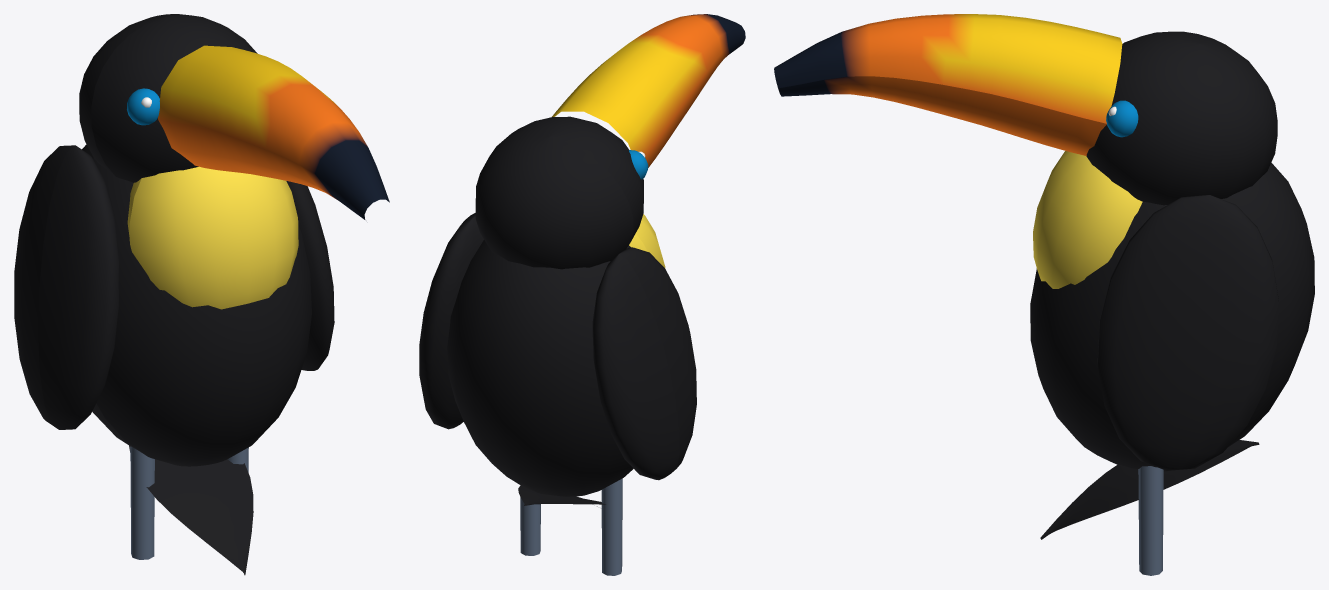
File: toucan.glb
3 views of the same model, side by side, from view 1: azimuth 30°, elevation 25°; view 2: azimuth 150°, elevation 25°; view 3: azimuth 270°, elevation 25° (orthographic). The views are drawn at different scales.
Visible parts, largest first — view 1: Body, WingL, Beak, Bib, Head, Tail, WingR, Leg_L, Eye; view 2: Body, Head, WingL, Beak, WingR, Leg_L, Leg_R, Bib, Tail; view 3: WingR, Beak, Head, Body, Bib, Tail, Leg_R, Eye.
Boxes of the visible parts, left/top/right/bottom form: Body: left=82, top=144, right=311, bottom=466; WingL: left=14, top=145, right=118, bottom=429; Beak: left=158, top=45, right=389, bottom=219; Bib: left=127, top=166, right=298, bottom=309; Head: left=79, top=14, right=257, bottom=182; Tail: left=129, top=445, right=253, bottom=575; WingR: left=286, top=181, right=334, bottom=370; Leg_L: left=130, top=446, right=154, bottom=559; Eye: left=127, top=88, right=159, bottom=125; Body: left=447, top=240, right=633, bottom=496; Head: left=475, top=116, right=643, bottom=269; WingL: left=592, top=247, right=696, bottom=480; Beak: left=552, top=14, right=745, bottom=167; WingR: left=419, top=213, right=483, bottom=429; Leg_L: left=601, top=478, right=622, bottom=575; Leg_R: left=520, top=497, right=540, bottom=555; Bib: left=629, top=214, right=665, bottom=268; Tail: left=518, top=485, right=605, bottom=506; WingR: left=1097, top=195, right=1278, bottom=470; Beak: left=774, top=14, right=1122, bottom=155; Head: left=1086, top=31, right=1277, bottom=205; Body: left=1030, top=162, right=1314, bottom=471; Bib: left=1033, top=151, right=1142, bottom=288; Tail: left=1040, top=440, right=1259, bottom=539; Leg_R: left=1138, top=466, right=1163, bottom=575; Eye: left=1106, top=100, right=1138, bottom=137.
Bounding box in the file's own units: 0.5834 × 1.08 × 1.
